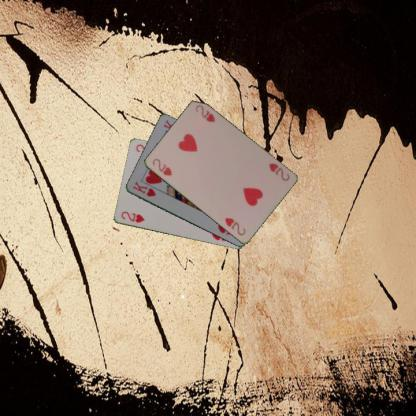2h: (266, 160, 290, 182), (150, 155, 172, 177), (118, 209, 146, 224)
Kh: (130, 179, 157, 198)
